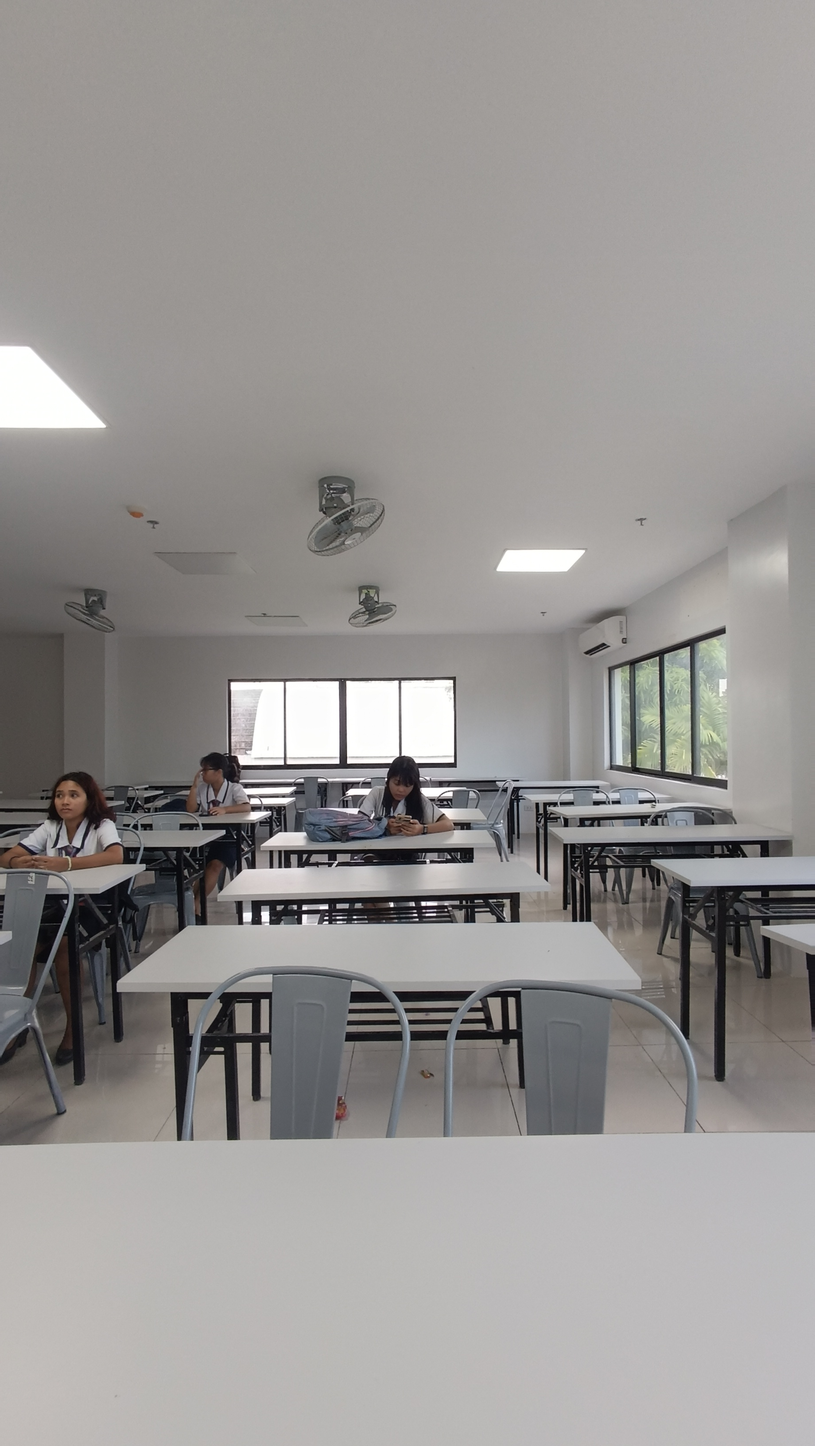with-student: (259, 753, 496, 863), (0, 769, 146, 925), (112, 750, 272, 831)
